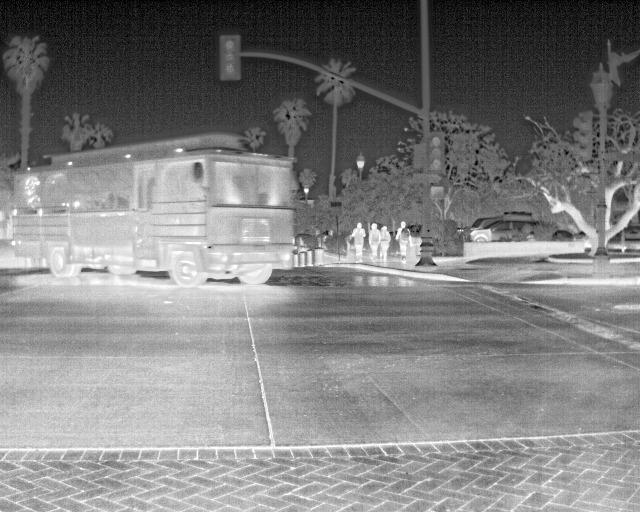bicycle: (468, 219, 534, 245), (469, 214, 501, 231)
empty: (346, 221, 366, 260), (393, 222, 410, 265), (366, 220, 379, 256), (378, 226, 391, 259)
